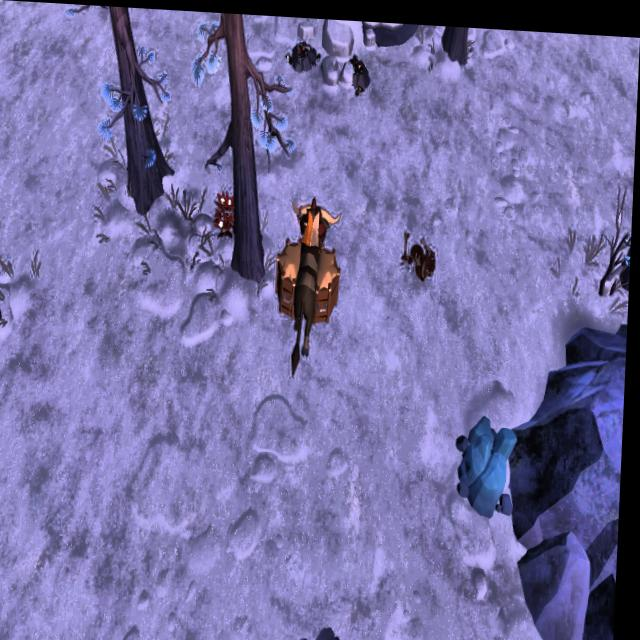fiber_t5: (215, 187, 239, 238)
rock_t4: (458, 407, 523, 514)
